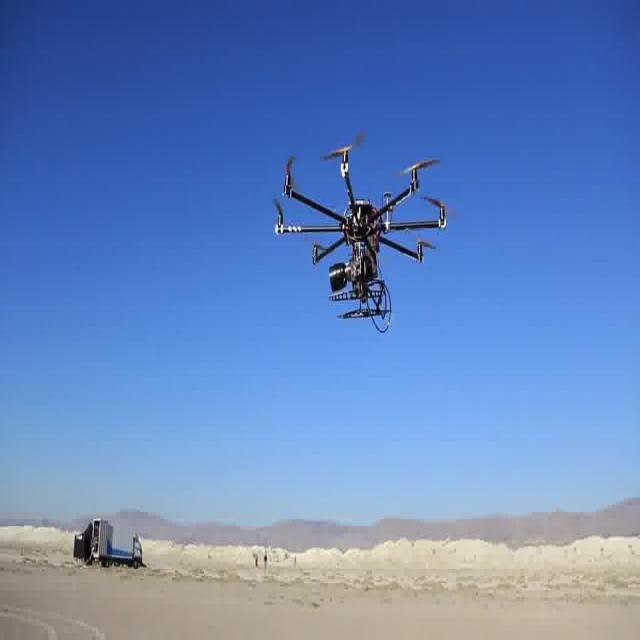drone: (268, 122, 456, 318)
